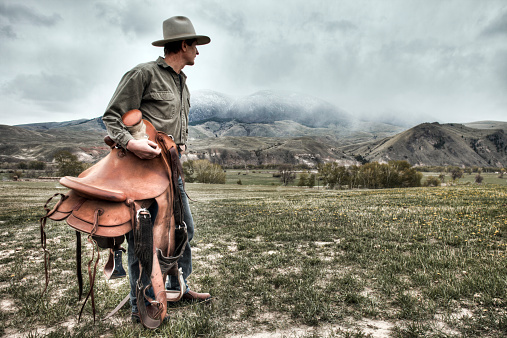em pe: (65, 14, 204, 326)
